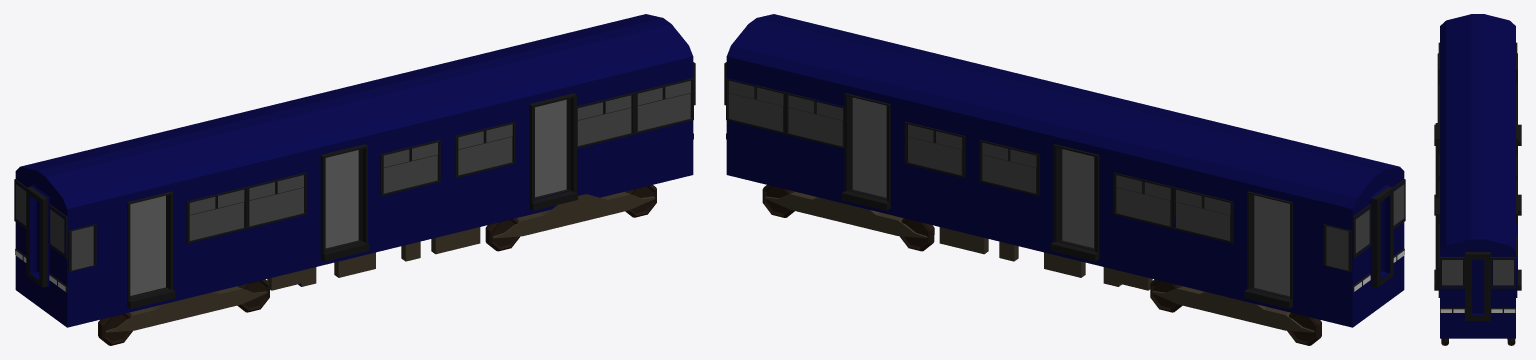
The model's file is Train1Coloured.fbx.
3 renders of one model, left to right at view 1: azimuth 30°, elevation 25°; view 2: azimuth 150°, elevation 25°; view 3: azimuth 270°, elevation 25°, orthographic. The views are drawn at different scales.
Visible parts, largest first — view 1: Cube, Cube.002, Cube.001, Torus.001, Torus.003, Torus.000, Torus.002; view 2: Cube, Cube.004, Cube.003, Torus.007, Torus.004, Torus.005, Torus.006; view 3: Cube.
Part boxes in pixels (left/top/right/bottom): Cube: left=14, top=14, right=695, bottom=327; Cube.002: left=492, top=191, right=655, bottom=238; Cube.001: left=105, top=286, right=267, bottom=332; Torus.001: left=98, top=312, right=132, bottom=345; Torus.003: left=485, top=218, right=519, bottom=251; Torus.000: left=237, top=279, right=269, bottom=312; Torus.002: left=625, top=185, right=656, bottom=217; Cube: left=724, top=14, right=1405, bottom=327; Cube.004: left=1152, top=286, right=1314, bottom=332; Cube.003: left=765, top=191, right=927, bottom=238; Torus.007: left=1287, top=312, right=1321, bottom=345; Torus.004: left=900, top=218, right=934, bottom=251; Torus.005: left=762, top=185, right=794, bottom=217; Torus.006: left=1150, top=279, right=1182, bottom=312; Cube: left=1434, top=14, right=1521, bottom=338.
Bounding box in the file's own units: 2147 × 533 × 345.
